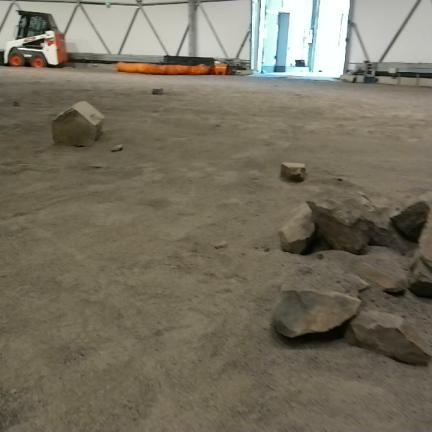Rock: (307, 200, 392, 254), (345, 311, 431, 364), (273, 290, 361, 341), (52, 101, 104, 146), (279, 203, 315, 254), (391, 200, 430, 242), (364, 266, 406, 295), (409, 259, 431, 297), (281, 162, 306, 182), (111, 145, 122, 152), (152, 89, 164, 94)
